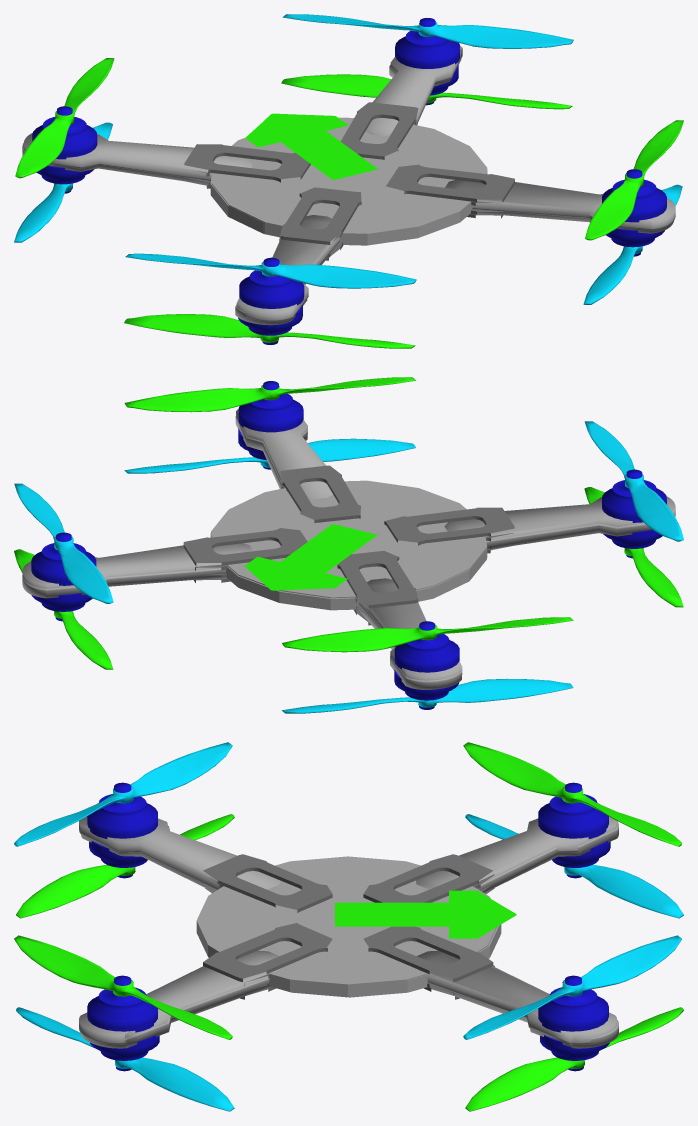
The model's file is octo_quad_x8.gltf.
3 renders of one model, top to bottom at view 1: azimuth 30°, elevation 25°; view 2: azimuth 150°, elevation 25°; view 3: azimuth 270°, elevation 25°, orthographic. The views are drawn at different scales.
Visible parts, largest first — view 1: octo-quad-x8; view 2: octo-quad-x8; view 3: octo-quad-x8.
Boxes of the visible parts, x1,y1,x2,y2 form: octo-quad-x8: [14, 14, 683, 348]; octo-quad-x8: [14, 377, 683, 713]; octo-quad-x8: [14, 742, 683, 1111].
Bounding box in the file's own units: 0.9982 × 0.1385 × 0.9507.
